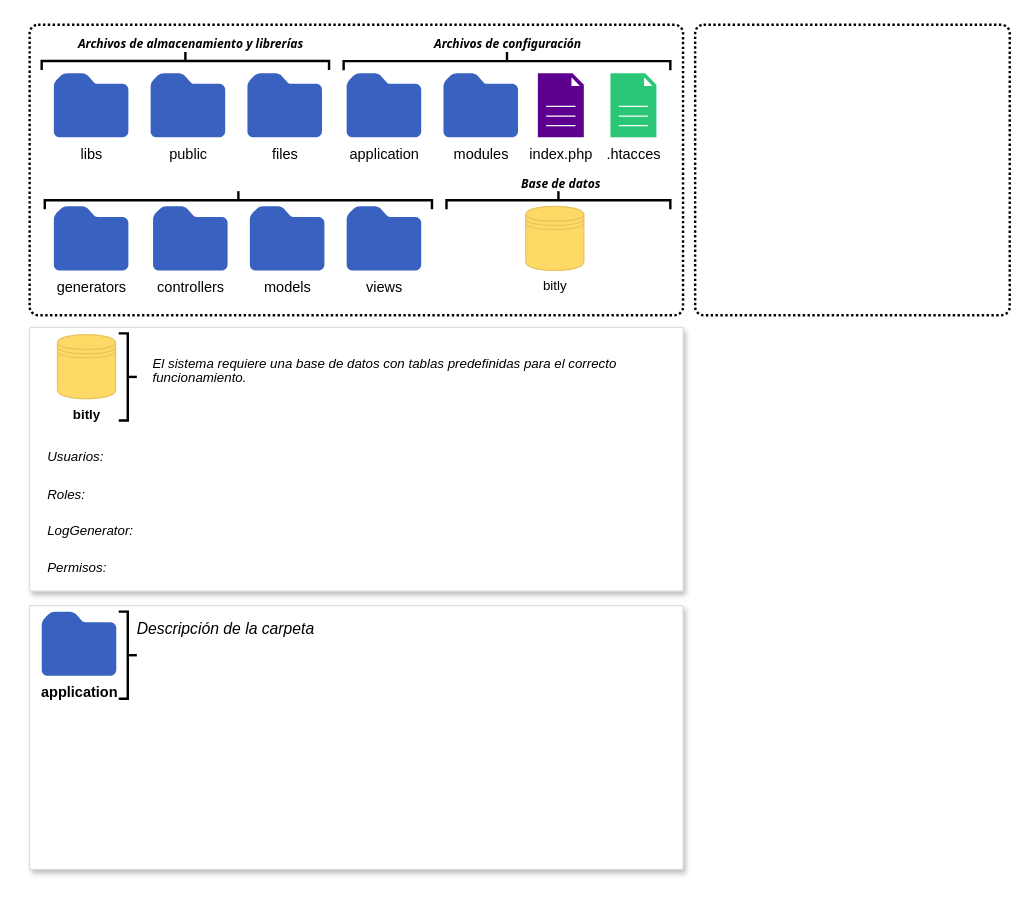
Image size: 1032x899. Some labels were removed from this diagram. The centre of each missing label's shape, as x and y in pixels:
"Archivos de interfaz" belongs at [238,199].
"Bitly Explicación del sistema." belongs at [851,169].
